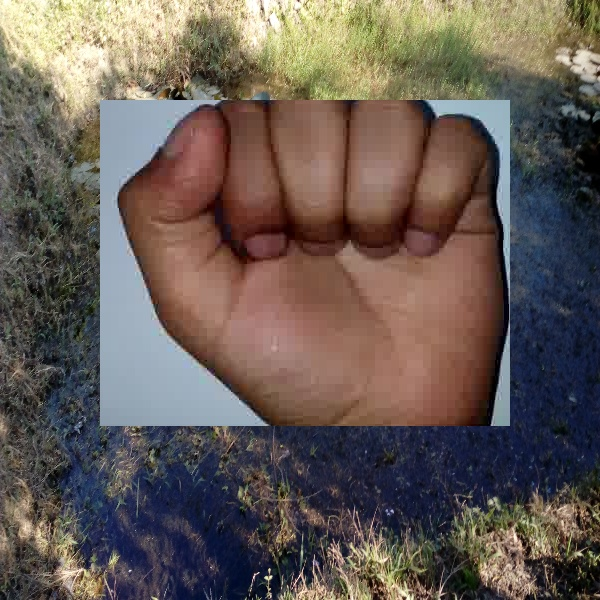A: (100, 100, 510, 426)
